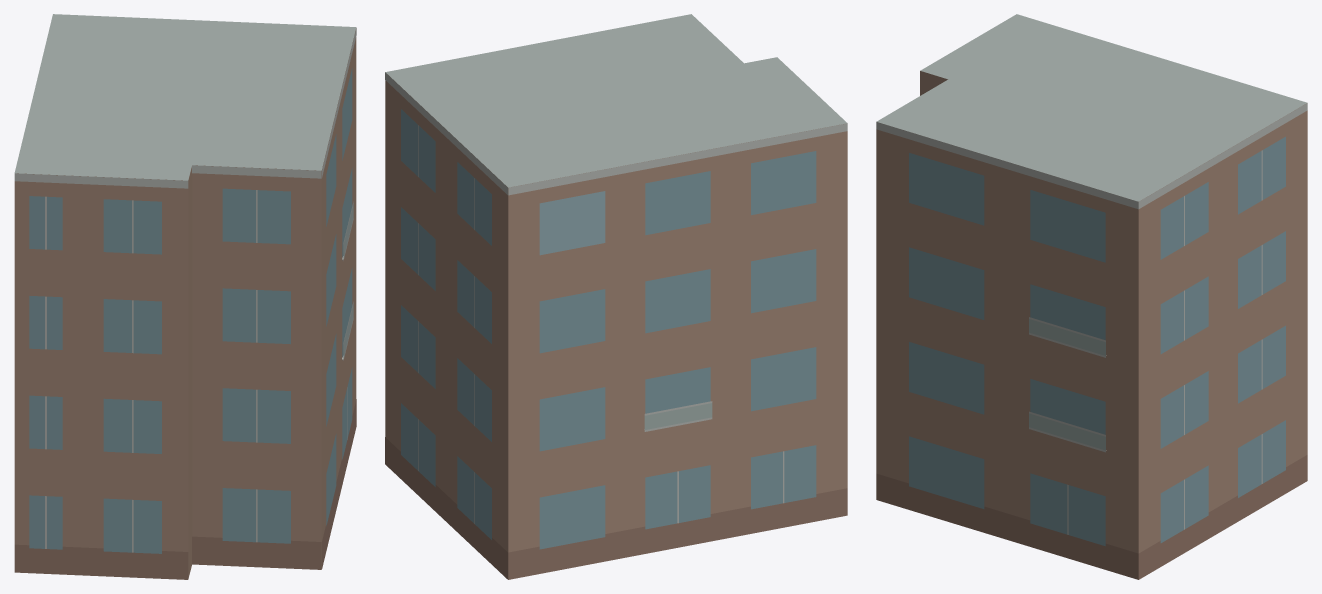
Rendered from residential-66e35291-e3bf-4275-98b5-e0037fe5c472.glb.
3 views of the same model, side by side, from view 1: azimuth 30°, elevation 25°; view 2: azimuth 150°, elevation 25°; view 3: azimuth 270°, elevation 25° (orthographic). The views are drawn at different scales.
Visible parts, largest first — view 1: residential-66e35291-e3bf-4275-98b5-e0037fe5c472.tmp; view 2: residential-66e35291-e3bf-4275-98b5-e0037fe5c472.tmp; view 3: residential-66e35291-e3bf-4275-98b5-e0037fe5c472.tmp.
Part boxes in pixels (x1,y1,x2,y2): residential-66e35291-e3bf-4275-98b5-e0037fe5c472.tmp: (14, 14, 356, 579); residential-66e35291-e3bf-4275-98b5-e0037fe5c472.tmp: (385, 14, 847, 579); residential-66e35291-e3bf-4275-98b5-e0037fe5c472.tmp: (876, 14, 1307, 579).
Bounding box in the file's own units: 13 × 12.2 × 12.62.
